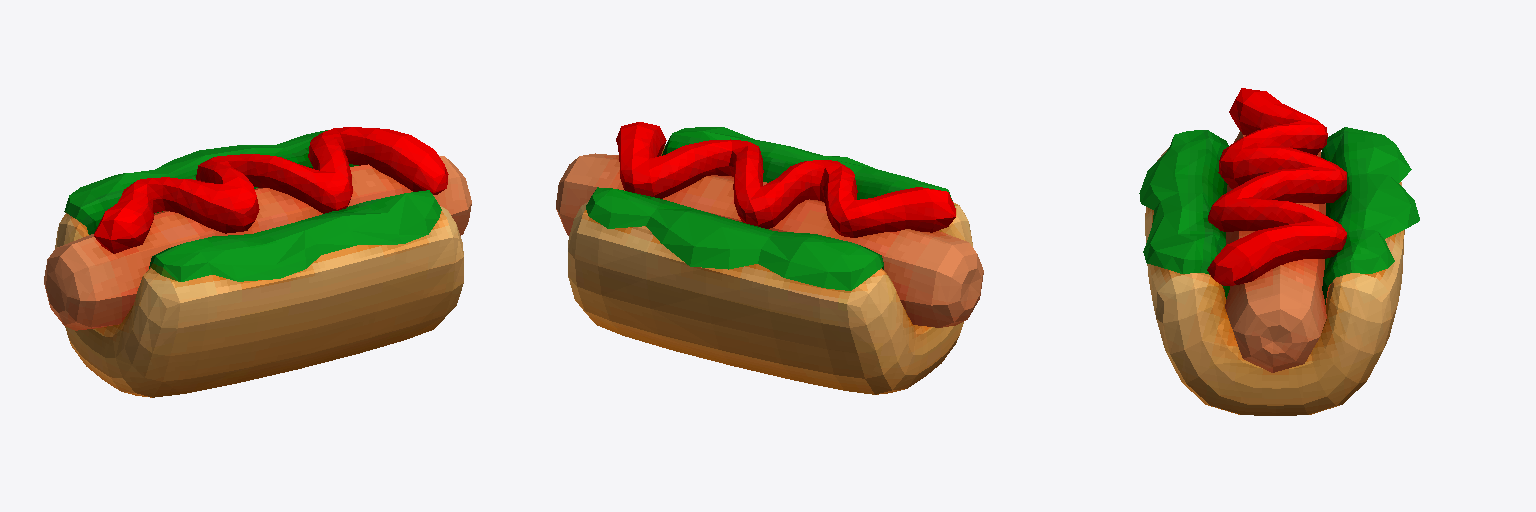
3 renders of one model, left to right at view 1: azimuth 30°, elevation 25°; view 2: azimuth 150°, elevation 25°; view 3: azimuth 270°, elevation 25°, orthographic.
Visible parts, largest first — view 1: Hotdog; view 2: Hotdog; view 3: Hotdog.
Part boxes in pixels (left/top/right/bottom): Hotdog: left=44, top=127, right=471, bottom=397; Hotdog: left=556, top=122, right=983, bottom=394; Hotdog: left=1139, top=88, right=1419, bottom=415.
Bounding box in the file's own units: 0.2402 × 0.108 × 0.1452.
Materials: 1 (1 with a texture image).